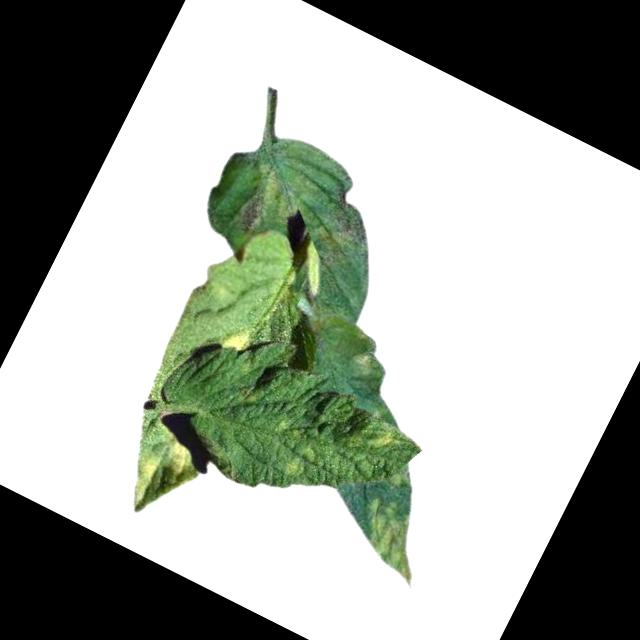Leaf_Mold: (344, 493, 442, 590), (226, 159, 307, 252), (121, 448, 164, 506), (217, 318, 257, 359), (364, 420, 403, 459), (164, 436, 200, 476), (279, 452, 314, 485)
